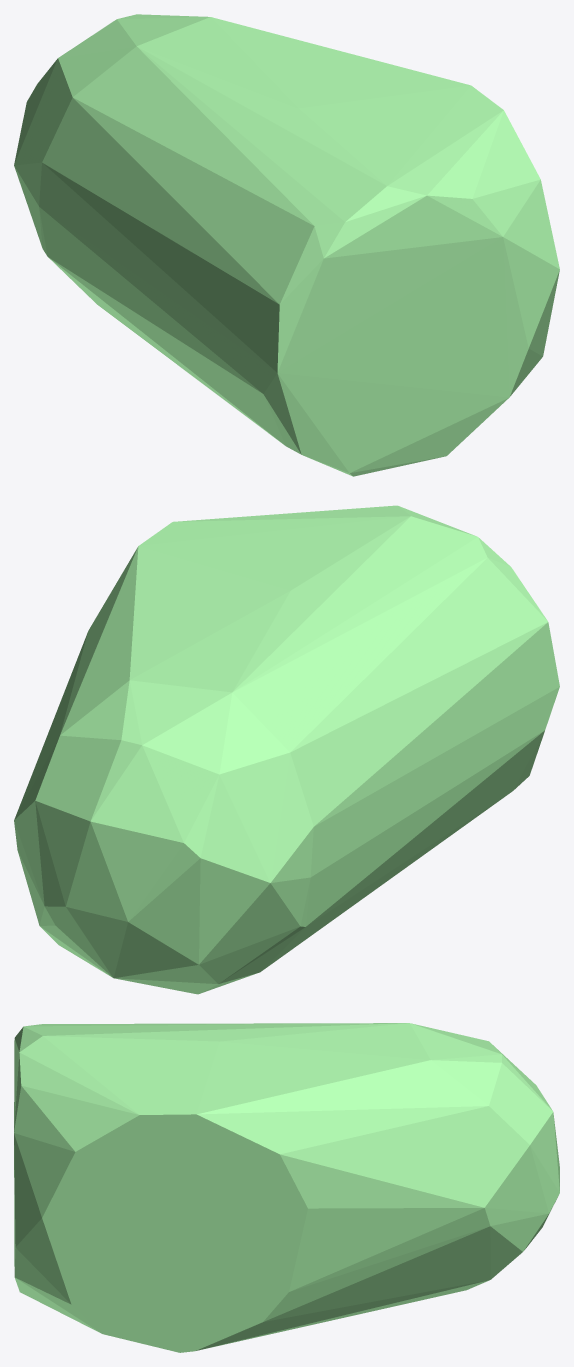
The model's file is dvkr_robot_R_link4_respondable_coll_1.dae.
3 renders of one model, top to bottom at view 1: azimuth 30°, elevation 25°; view 2: azimuth 150°, elevation 25°; view 3: azimuth 270°, elevation 25°, orthographic. The views are drawn at different scales.
Visible parts, largest first — view 1: Node_0000023514CD9290; view 2: Node_0000023514CD9290; view 3: Node_0000023514CD9290.
Boxes of the visible parts, x1,y1,x2,y2 form: Node_0000023514CD9290: [14, 14, 559, 476]; Node_0000023514CD9290: [14, 505, 559, 994]; Node_0000023514CD9290: [14, 1023, 559, 1352].
Bounding box in the file's own units: 0.1174 × 0.1061 × 0.2136.
